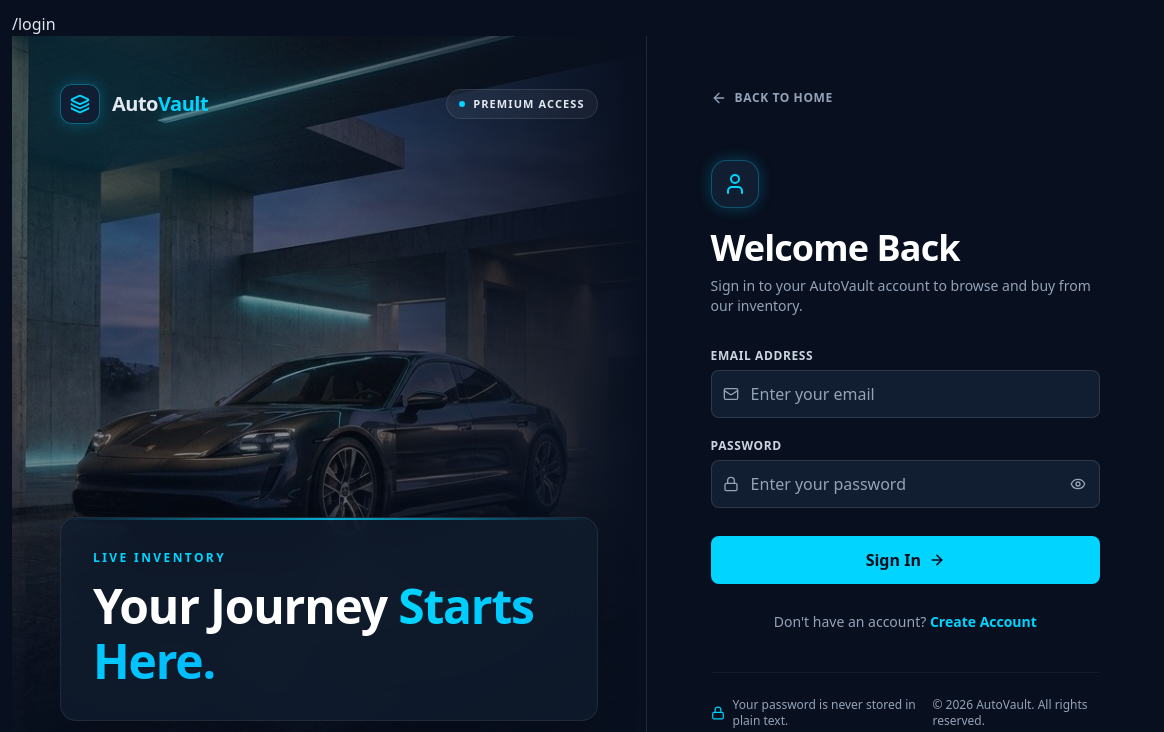
Test: LoginPage › the password field › keeps the password hidden, and shows or hides it with a button that says which
The image size is (1164, 732).
Type "Sup3rSecret!" into the password field labelled "Password". click: (905, 484)
box: [711, 460, 1100, 508]
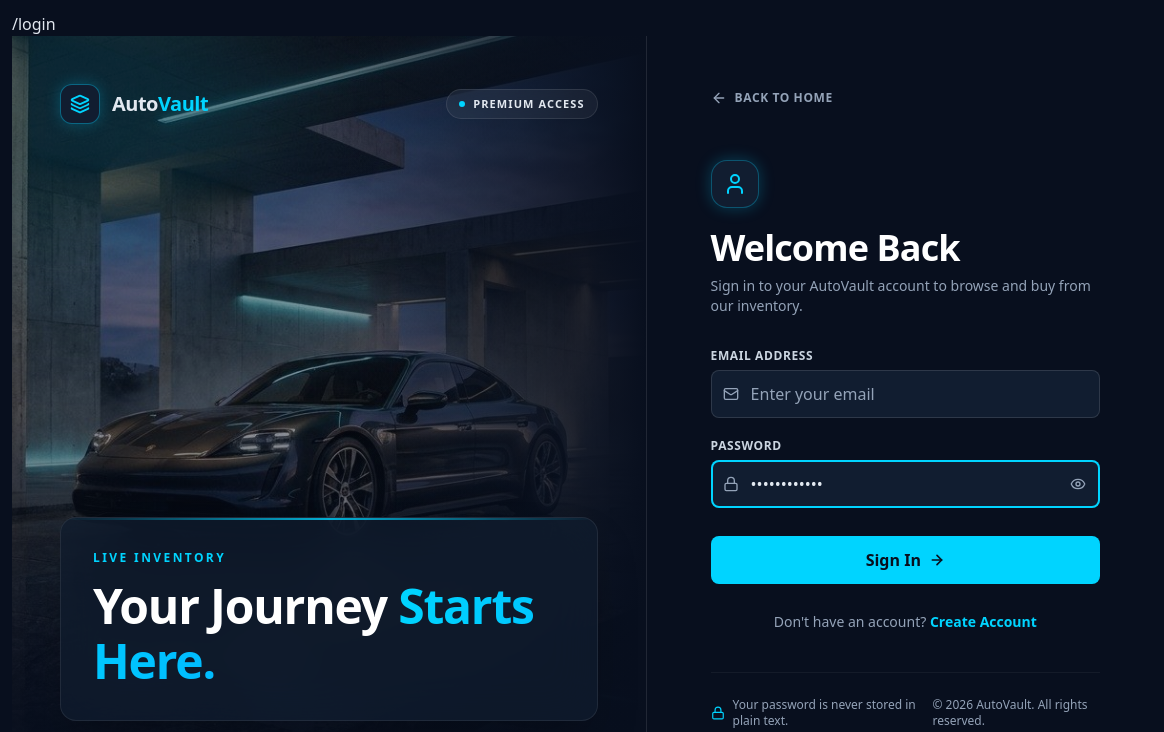
Click the button named "Show password". click: (1078, 484)
box: [1056, 462, 1100, 506]
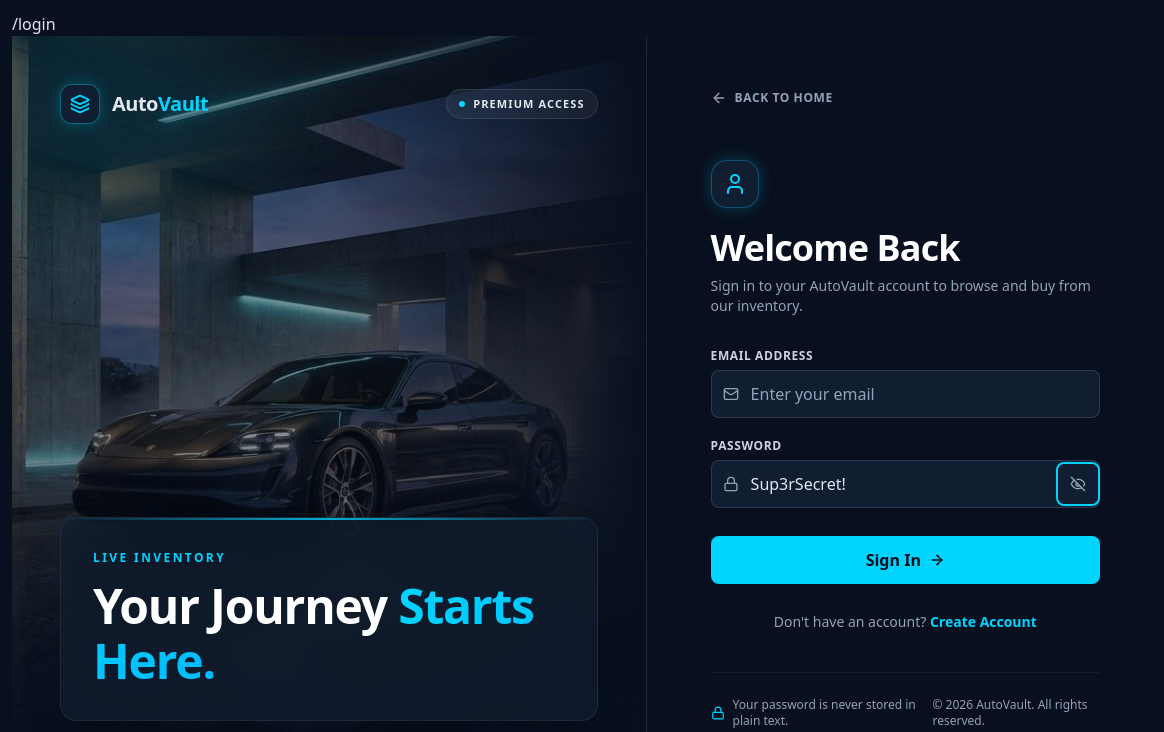
Check: the field labelled "Password" shows its text, box [711, 460, 1100, 508]
Click the button named "Hide password". click: (1078, 484)
box: [1056, 462, 1100, 506]
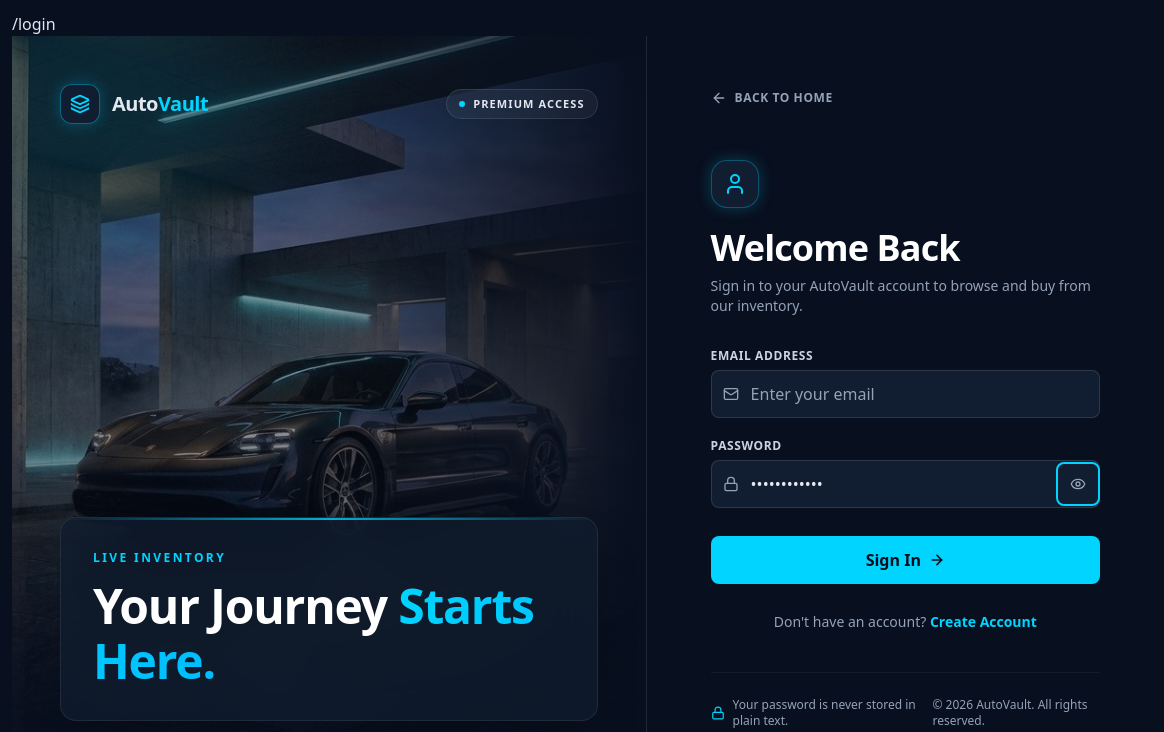
Check: the password field labelled "Password" hides its text, box [711, 460, 1100, 508]
